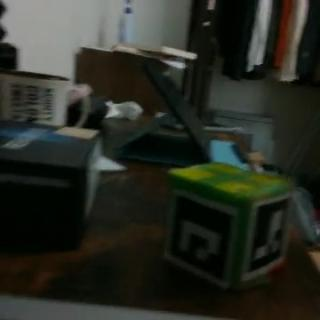armor: (164, 188, 239, 286), (242, 194, 292, 280)
robot: (160, 158, 296, 292)
